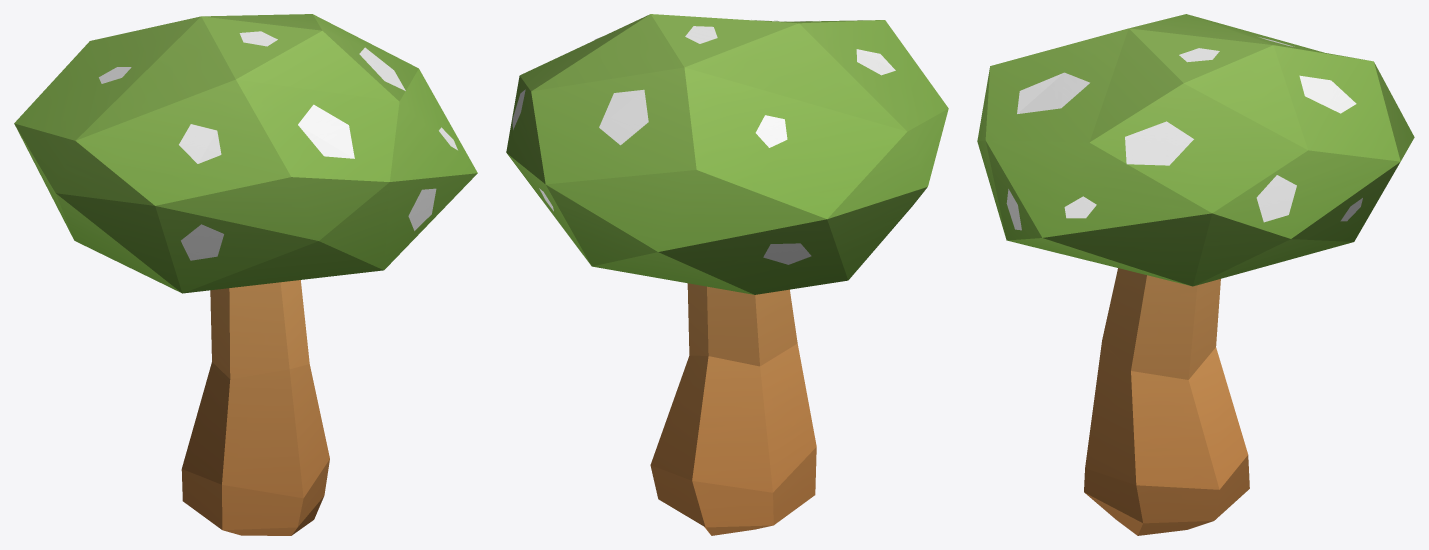
File: Mushroom_Green_Small_01.fbx
3 renders of one model, left to right at view 1: azimuth 30°, elevation 25°; view 2: azimuth 150°, elevation 25°; view 3: azimuth 270°, elevation 25°, orthographic. The views are drawn at different scales.
Parts seen in each view (by area): view 1: Mushroom_Green_Small; view 2: Mushroom_Green_Small; view 3: Mushroom_Green_Small.
Part boxes in pixels (box(x1,y1,x2,y2)): Mushroom_Green_Small: box(14, 14, 477, 535); Mushroom_Green_Small: box(506, 14, 948, 535); Mushroom_Green_Small: box(977, 14, 1414, 535).
Size of the model in its own units: 0.55 by 0.65 by 0.55.
